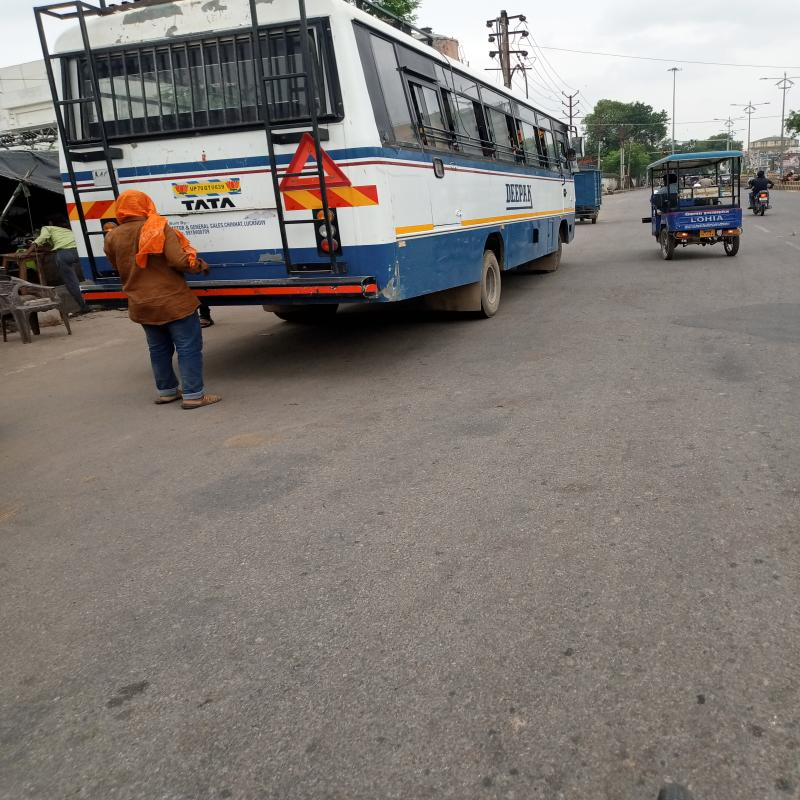bus: (45, 12, 570, 285)
